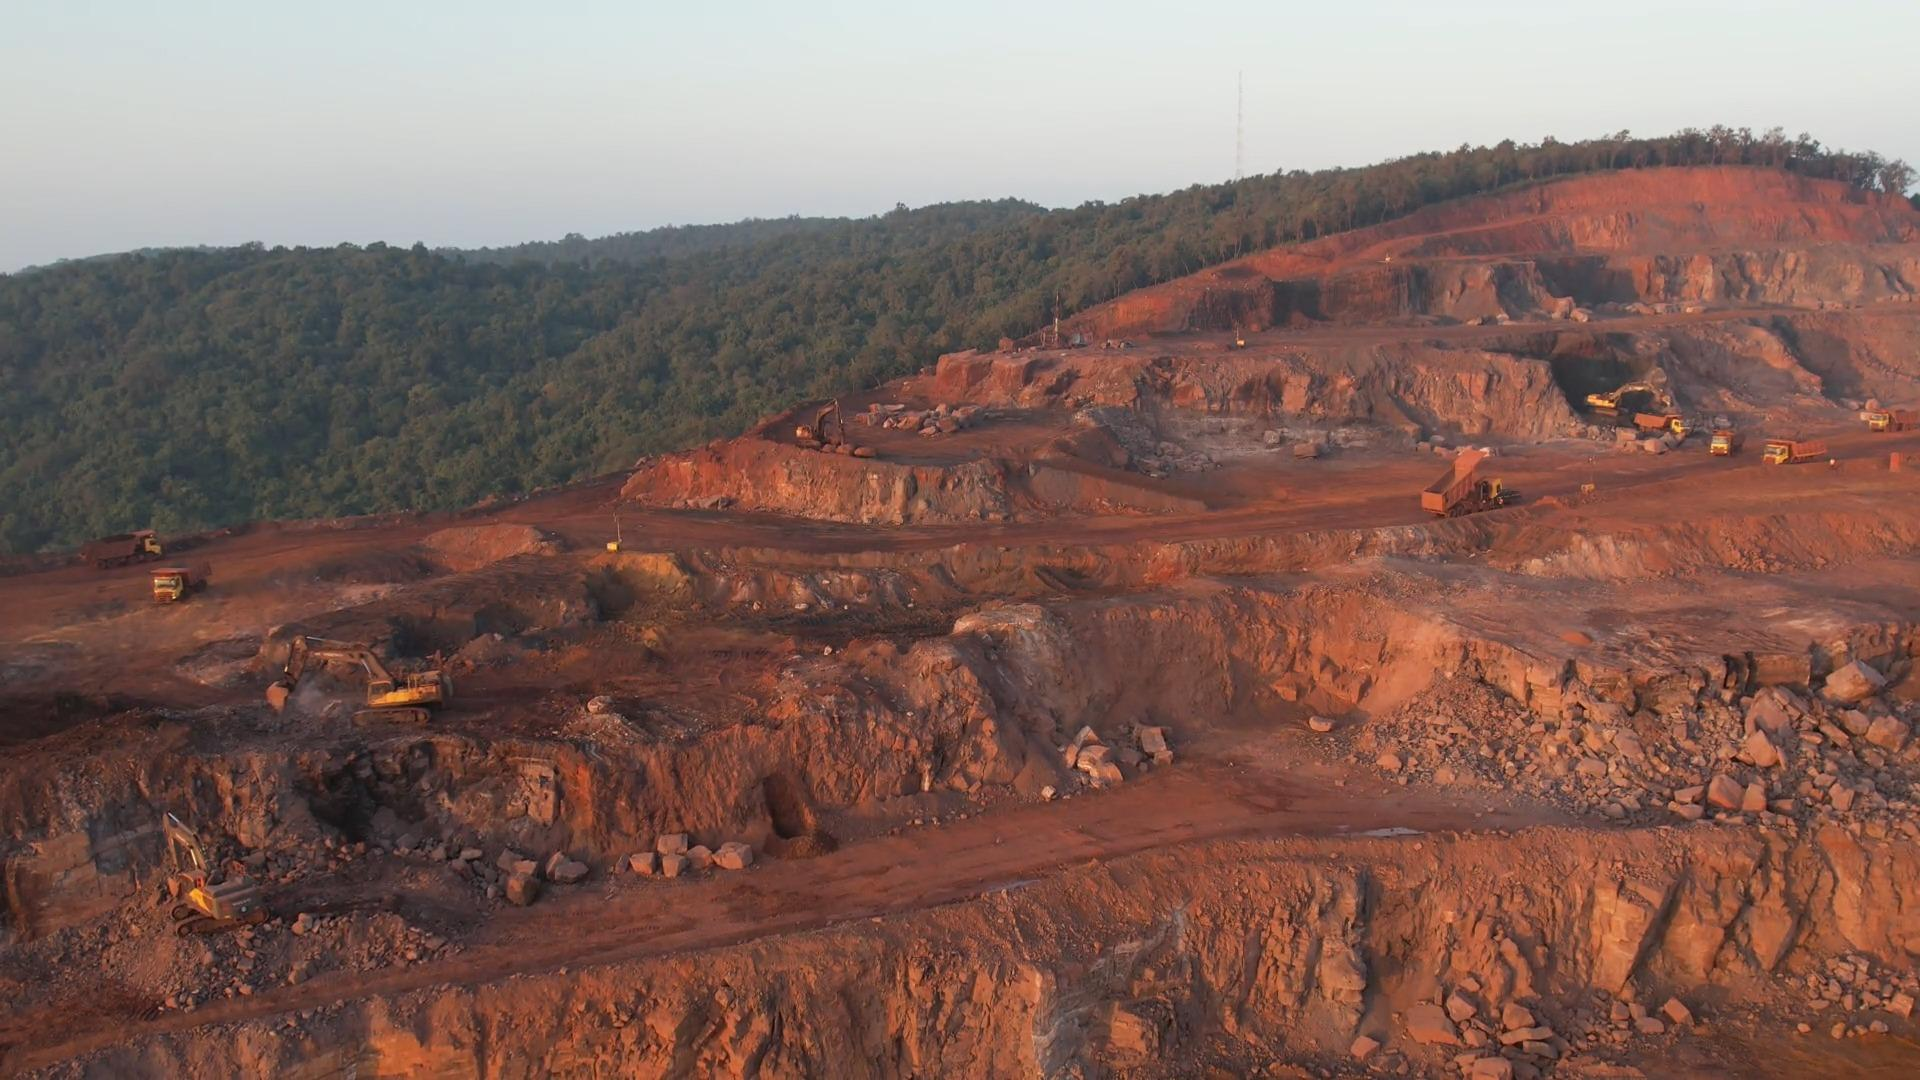excavator: (270, 633, 447, 721), (158, 810, 266, 935), (793, 394, 848, 452), (1582, 389, 1630, 418)
